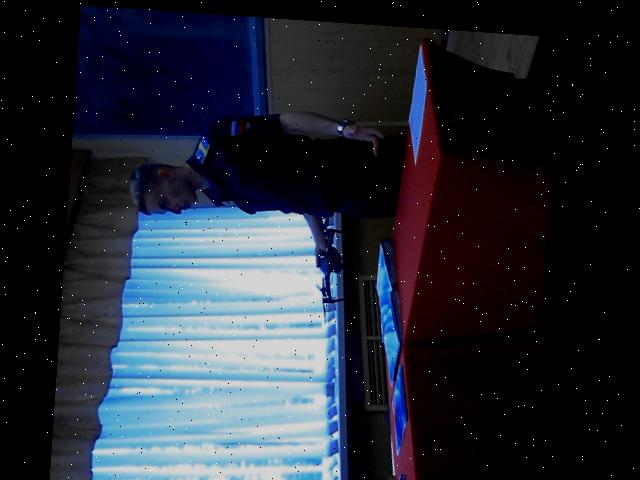drone: (300, 208, 353, 314)
